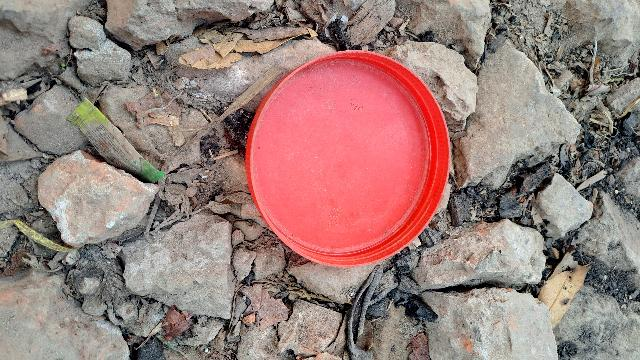hardplastic: (245, 43, 453, 268)
